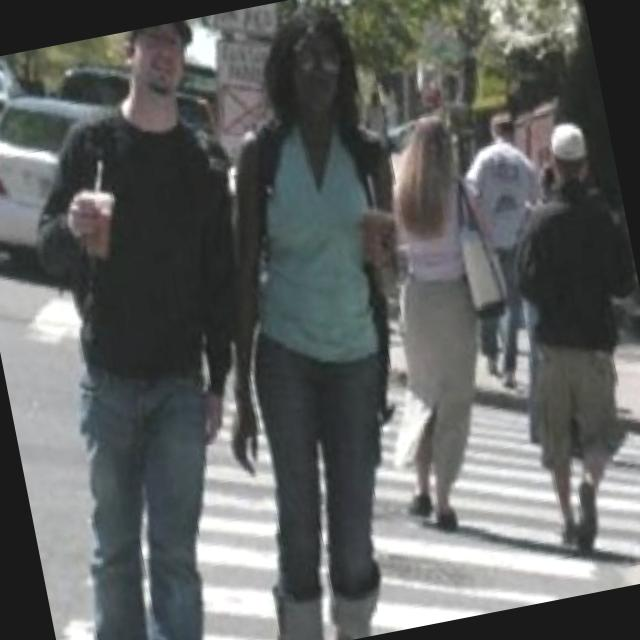Person: (152, 5, 470, 640), (0, 17, 319, 640), (342, 95, 538, 547), (479, 115, 640, 560)
